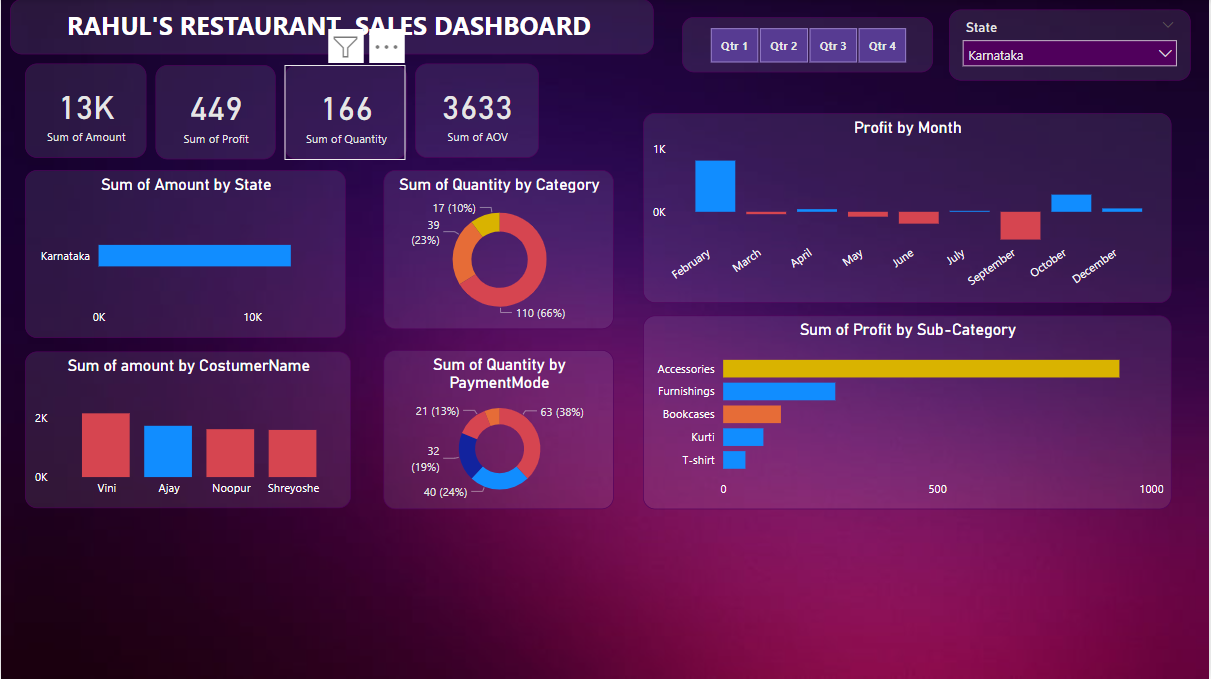

The dashboard page shown, as its layout file describes it:
{"tool":"powerbi","page":{"name":"Page 1","canvas":[1280,720],"ordinal":0},"visuals":[{"type":"textbox","box":[9.1,0,681.8,58.4],"z":0},{"type":"columnChart","title":"Profit by Month","fields":{"Category":["Orders.Order Date.Variation.Date Hierarchy.Month"],"Y":["Details.Profit"]},"box":[680.5,120.8,559.7,201.3],"z":1000},{"type":"barChart","fields":{"Category":["Details.Sub-Category"],"Y":["Details.Profit"]},"box":[680.5,335.1,559.7,205.2],"z":2000},{"type":"donutChart","fields":{"Category":["Details.Category"],"Y":["Details.Quantity"]},"box":[405.2,181.8,244.2,168.8],"z":3000},{"type":"donutChart","fields":{"Y":["Details.Quantity"],"Category":["Details.PaymentMode"]},"box":[405.2,371.4,244.2,168.8],"z":4000},{"type":"card","fields":{"Values":["Details.Amount"]},"box":[24.7,68.8,128.6,100],"z":5000},{"type":"card","fields":{"Values":["Details.Profit"]},"box":[163.6,70.1,127.3,100],"z":6000},{"type":"card","fields":{"Values":["Details.Quantity"]},"box":[300,70.1,129.9,100],"z":7000},{"type":"card","fields":{"Values":["Details.AOV"]},"box":[439,68.8,131.2,100],"z":8000},{"type":"barChart","fields":{"Y":["Details.Amount"],"Category":["Orders.State"]},"box":[24.7,181.8,340.3,177.9],"z":9000},{"type":"columnChart","title":"Sum of amount by CostumerName","fields":{"Category":["Orders.CustomerName"],"Y":["Details.Amount"]},"box":[24.7,374,345.5,166.2],"z":10000},{"type":"slicer","fields":{"Values":["Orders.Order Date.Variation.Date Hierarchy.Quarter"]},"box":[722.1,19.5,266.2,58.4],"z":11000},{"type":"slicer","fields":{"Values":["Orders.State"]},"box":[1003.9,11.7,255.8,75.3],"z":12000}]}

Visuals, with their boxes in screenshot pixels (x1, y1, x2, y2), scaled from the page's 1280x720 canvas onto the 1211x679 screenshot:
textbox: [9, 0, 654, 55]
"Profit by Month" columnChart: [644, 114, 1173, 304]
barChart - Details.Sub-Category x Details.Profit: [644, 316, 1173, 510]
donutChart - Details.Category x Details.Quantity: [383, 171, 614, 331]
donutChart - Details.Quantity x Details.PaymentMode: [383, 350, 614, 509]
card - Details.Amount: [23, 65, 145, 159]
card - Details.Profit: [155, 66, 275, 160]
card - Details.Quantity: [284, 66, 407, 160]
card - Details.AOV: [415, 65, 539, 159]
barChart - Details.Amount x Orders.State: [23, 171, 345, 339]
"Sum of amount by CostumerName" columnChart: [23, 353, 350, 509]
slicer - Orders.Order Date.Variation.Date Hierarchy.Quarter: [683, 18, 935, 73]
slicer - Orders.State: [950, 11, 1192, 82]
